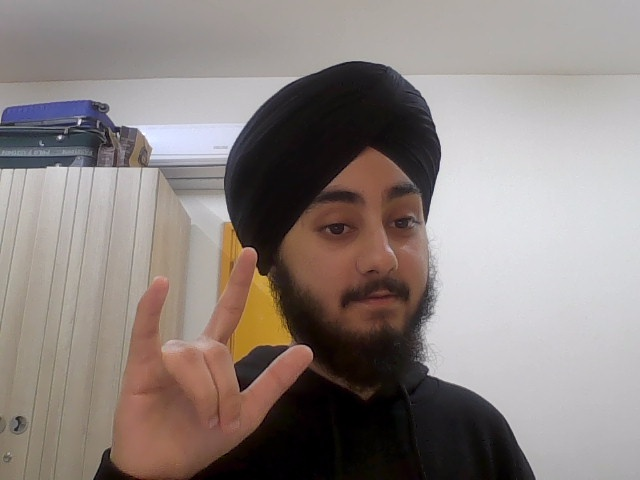ILoveYou: (109, 242, 314, 477)
